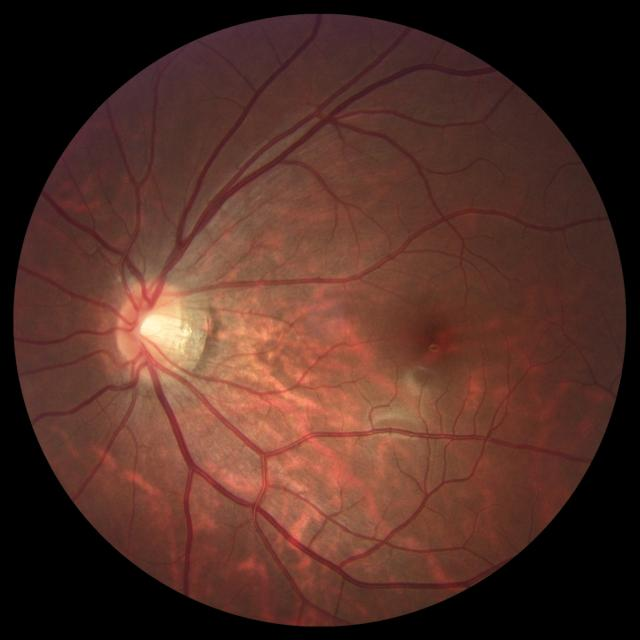OC: (133, 308, 171, 346)
OD: (116, 281, 185, 375)
